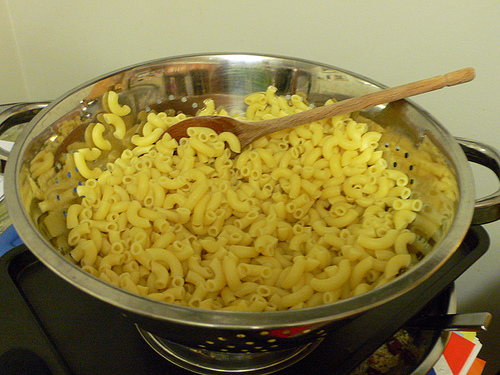macncheese: (61, 83, 420, 321)
